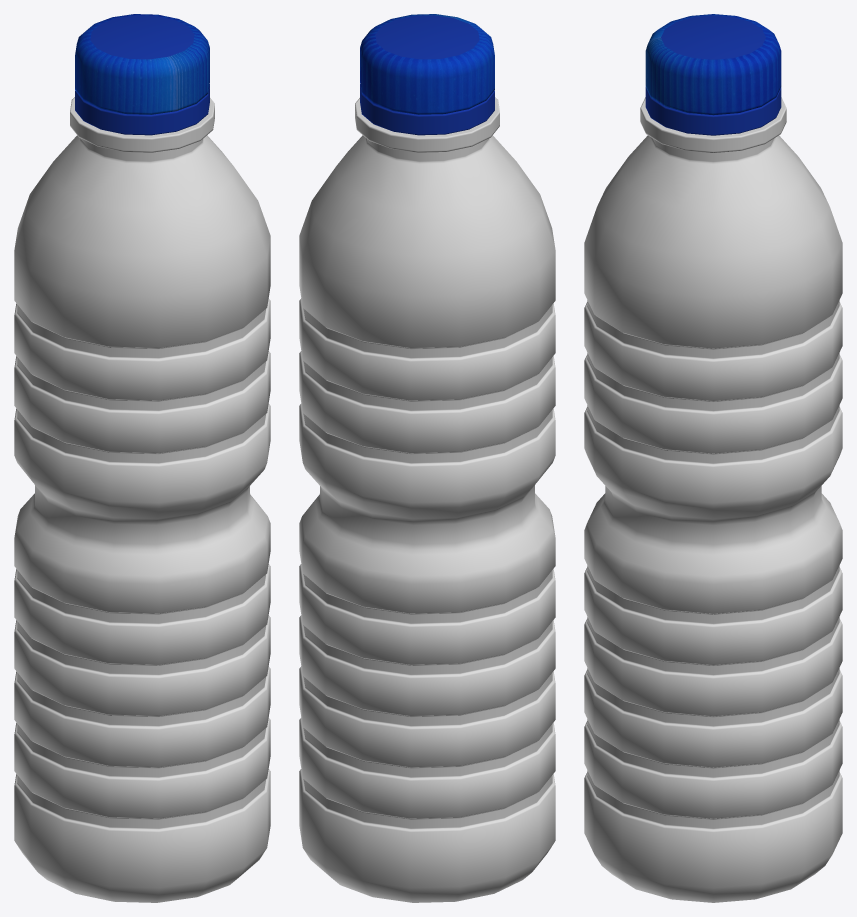
Rendered from asset.glb.
The picture shows the model from 3 angles, left to right: view 1: azimuth 30°, elevation 25°; view 2: azimuth 150°, elevation 25°; view 3: azimuth 270°, elevation 25°; orthographic projection.
Parts seen in each view (by area): view 1: Bottle, Cap; view 2: Bottle, Cap; view 3: Bottle, Cap.
Part boxes in pixels (x1,y1,x2,y2): Bottle: (14,97,270,902); Cap: (75,14,209,135); Bottle: (299,97,555,902); Cap: (360,14,494,135); Bottle: (584,97,842,902); Cap: (645,14,781,135).
Size of the model in its own units: 0.5997 by 2.12 by 0.5997.
Materials: 3 (1 with a texture image).
